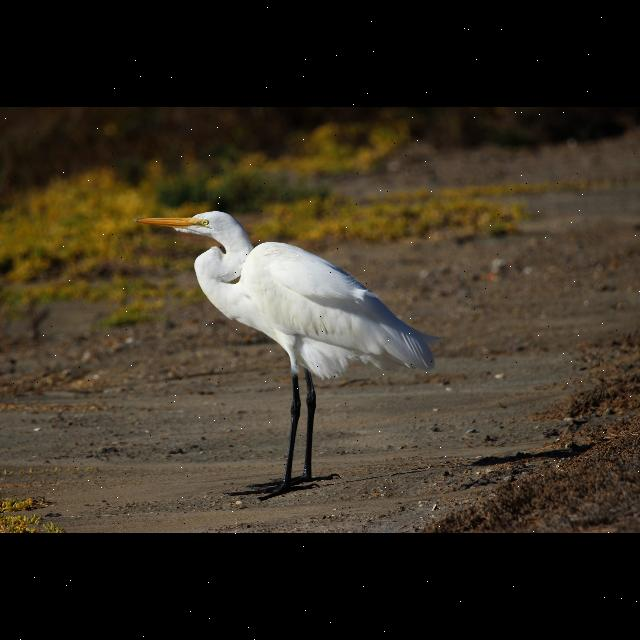egret: (123, 203, 455, 512)
